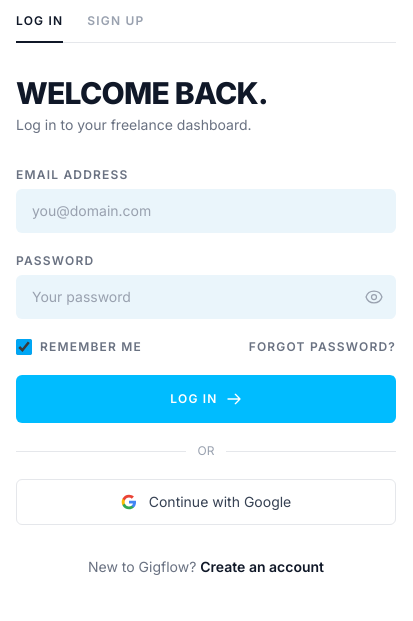
LoginPage Component Tests › renders success message in green text (text-emerald-700) when loginAction returns ok: true
In the field with placeholder "you@domain.com": point(206, 211) top-left (16, 189), bottom-right (396, 233), type "user@example.com"
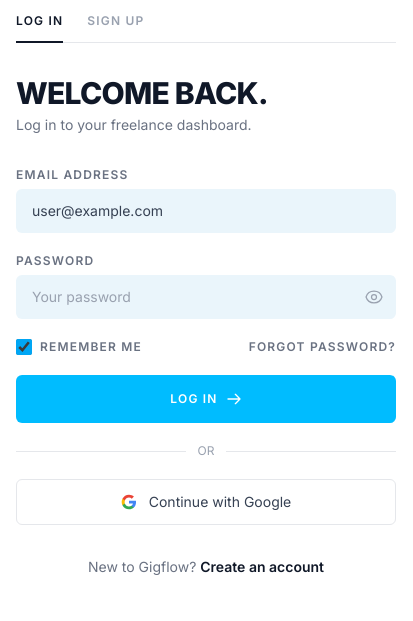
In the password field with placeholder "Your password": point(206, 297) top-left (16, 275), bottom-right (396, 319), type "Password123"
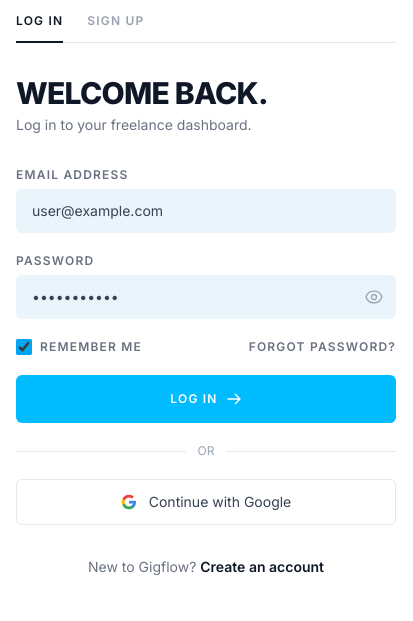
Click the button "LOG IN": point(206, 399) top-left (16, 375), bottom-right (396, 423)
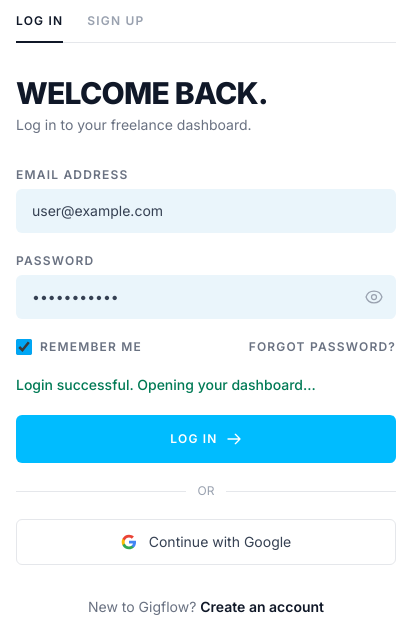
Result: the text "Login successful. Opening your dashboard..." is shown at top-left (16, 376), bottom-right (316, 393)
